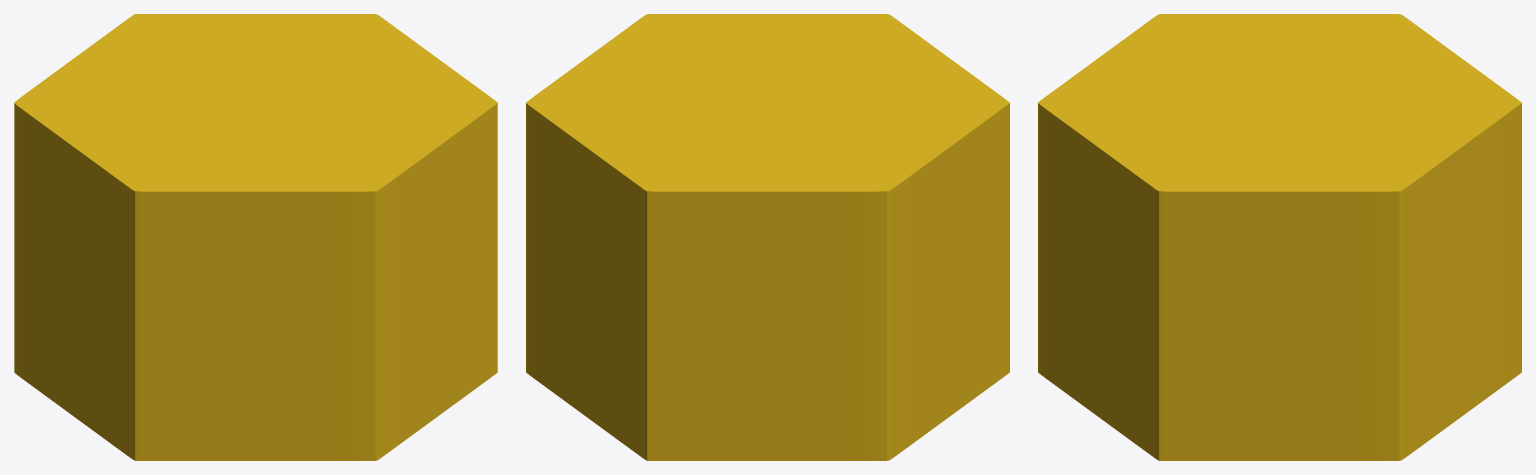
Rendered from hexagon.gltf.
3 renders of one model, left to right at view 1: azimuth 30°, elevation 25°; view 2: azimuth 150°, elevation 25°; view 3: azimuth 270°, elevation 25°, orthographic.
Visible parts, largest first — view 1: Circle; view 2: Circle; view 3: Circle.
Boxes of the visible parts, box(x1,y1,x2,y2) form: Circle: box(14, 14, 497, 460); Circle: box(526, 14, 1009, 460); Circle: box(1038, 14, 1521, 460).
Bounding box in the file's own units: 1.73 × 1.23 × 2.
